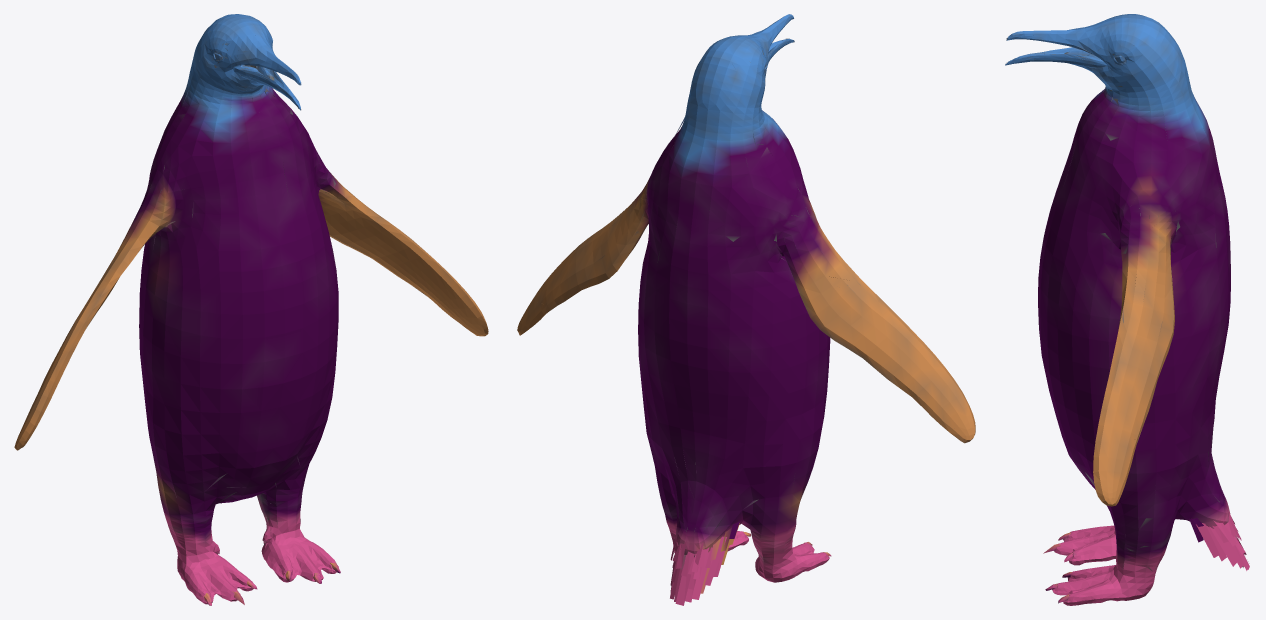
3 views of the same model, side by side, from view 1: azimuth 30°, elevation 25°; view 2: azimuth 150°, elevation 25°; view 3: azimuth 270°, elevation 25° (orthographic). The views are drawn at different scales.
Parts seen in each view (by area): view 1: geometry_0.001; view 2: geometry_0.001; view 3: geometry_0.001.
Boxes of the visible parts, <box> form: geometry_0.001: <box>14,14,488,605</box>; geometry_0.001: <box>517,14,975,605</box>; geometry_0.001: <box>1005,14,1249,605</box>.
Bounding box in the file's own units: 3.68 × 4.08 × 1.65.
